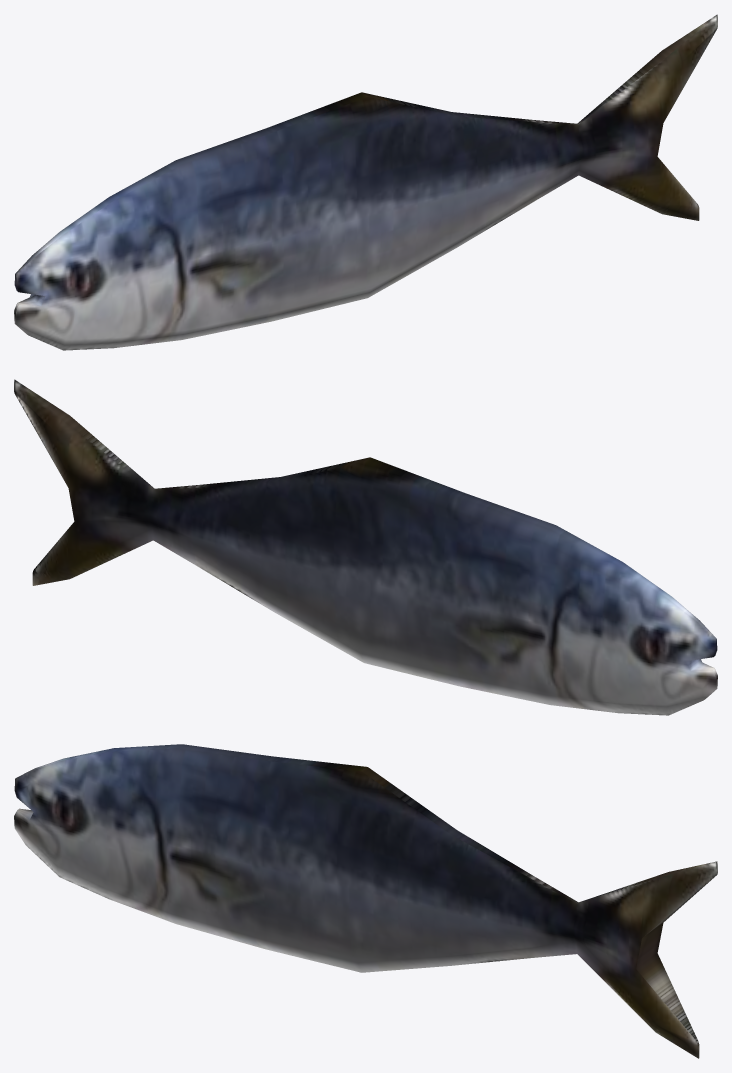
The model's file is tuna-low-tex.obj.
3 views of the same model, one above another, from view 1: azimuth 30°, elevation 25°; view 2: azimuth 150°, elevation 25°; view 3: azimuth 330°, elevation 25° (orthographic).
Visible parts, largest first — view 1: Vertex_Object; view 2: Vertex_Object; view 3: Vertex_Object.
Part boxes in pixels (left/top/right/bottom): Vertex_Object: left=14, top=14, right=717, bottom=350; Vertex_Object: left=14, top=379, right=717, bottom=715; Vertex_Object: left=14, top=744, right=717, bottom=1058.
Size of the model in its own units: 127 by 36 by 6.73.
1 material, 1 textured.
